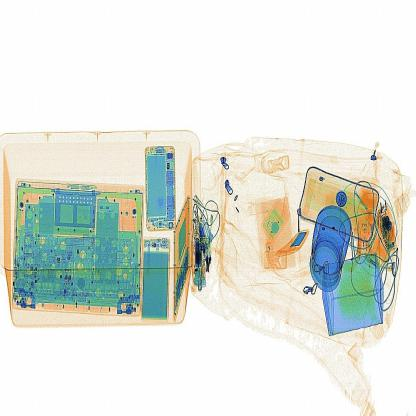pliers: (272, 218, 315, 265)
